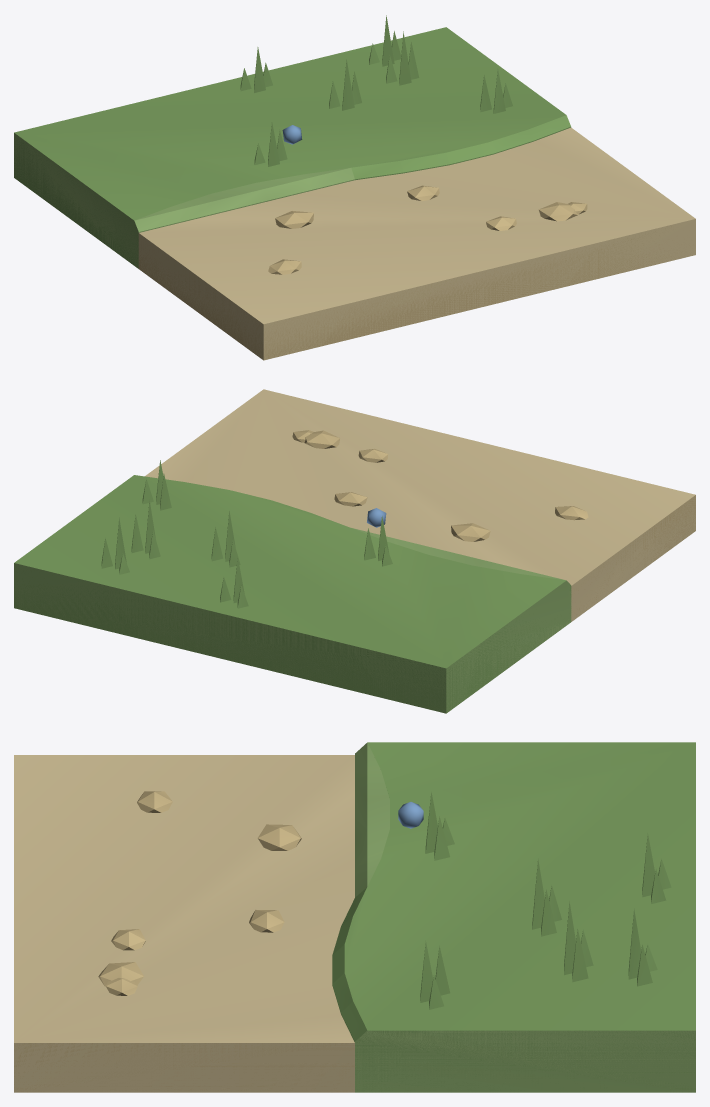
Rendered from terrain.sand.edge.glb.
3 views of the same model, one above another, from view 1: azimuth 30°, elevation 25°; view 2: azimuth 150°, elevation 25°; view 3: azimuth 270°, elevation 25° (orthographic). The views are drawn at different scales.
Visible parts, largest first — view 1: terrain.sand.edge.v1.mesh, terrain.sand.edge.v2.mesh, terrain.sand.edge.v0.mesh; view 2: terrain.sand.edge.v1.mesh, terrain.sand.edge.v2.mesh, terrain.sand.edge.v0.mesh; view 3: terrain.sand.edge.v2.mesh, terrain.sand.edge.v1.mesh, terrain.sand.edge.v0.mesh.
Boxes of the visible parts, x1=… form: terrain.sand.edge.v1.mesh: x1=14, y1=27, x2=693, y2=360; terrain.sand.edge.v2.mesh: x1=14, y1=47, x2=695, y2=358; terrain.sand.edge.v0.mesh: x1=14, y1=15, x2=695, y2=360; terrain.sand.edge.v1.mesh: x1=14, y1=430, x2=695, y2=713; terrain.sand.edge.v2.mesh: x1=14, y1=389, x2=695, y2=709; terrain.sand.edge.v0.mesh: x1=14, y1=495, x2=695, y2=713; terrain.sand.edge.v2.mesh: x1=14, y1=755, x2=695, y2=1092; terrain.sand.edge.v1.mesh: x1=14, y1=742, x2=695, y2=1092; terrain.sand.edge.v0.mesh: x1=14, y1=742, x2=695, y2=1092.
Size of the model in its own units: 1 by 0.2145 by 1.
